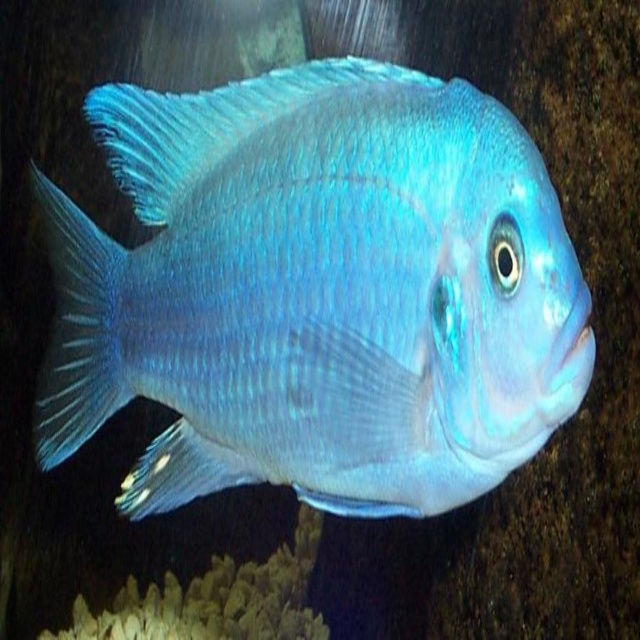Fish: (7, 45, 591, 592)
